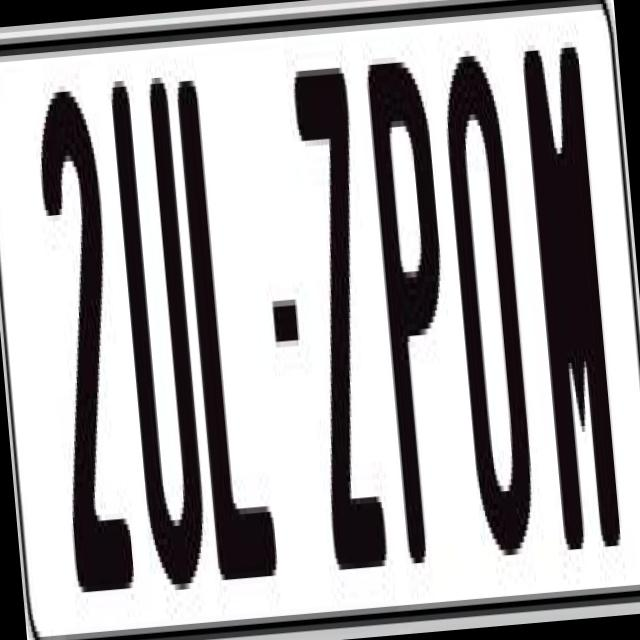0: (435, 47, 544, 586)
2: (32, 89, 140, 598)
L: (175, 59, 286, 586)
M: (522, 47, 623, 556)
P: (362, 60, 464, 581)
U: (110, 70, 213, 598)
Z: (291, 49, 388, 558)
